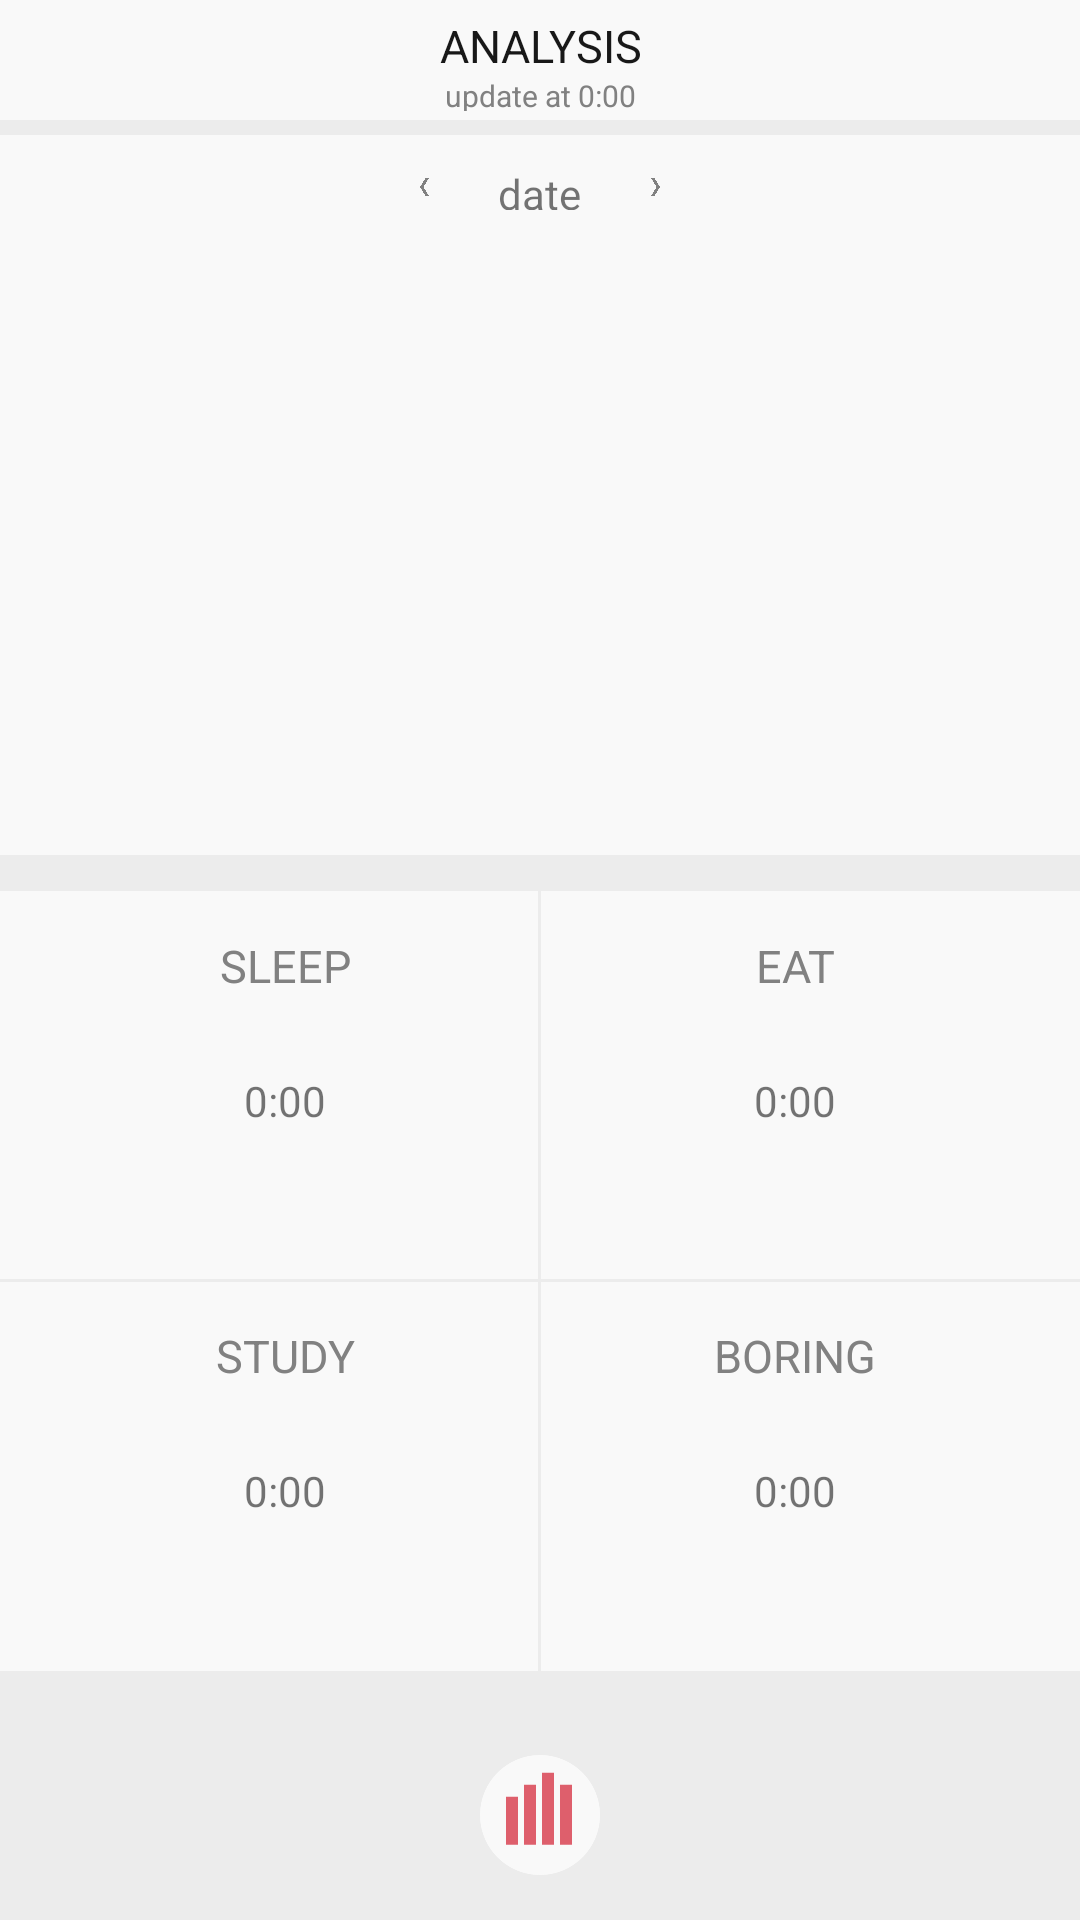

Icons on this 1080px x 1920px Android screen, each with its box as (x1, y1, x2, y2):
annalysis: (506, 1772, 572, 1845)
